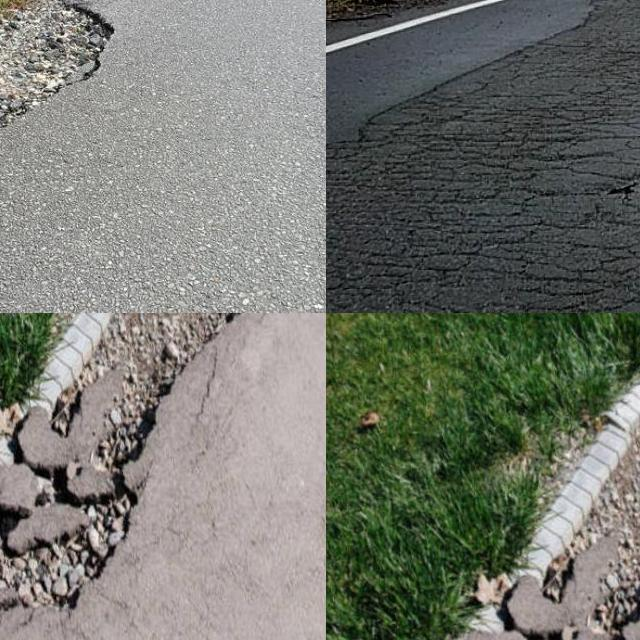Pinggir: (0, 313, 268, 618), (395, 336, 640, 640), (0, 0, 138, 163)
Retak Buaya: (326, 31, 640, 313)
